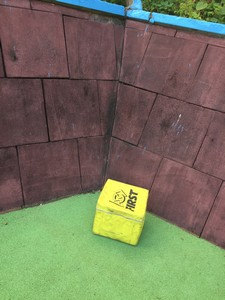cube: (94, 180, 150, 245)
